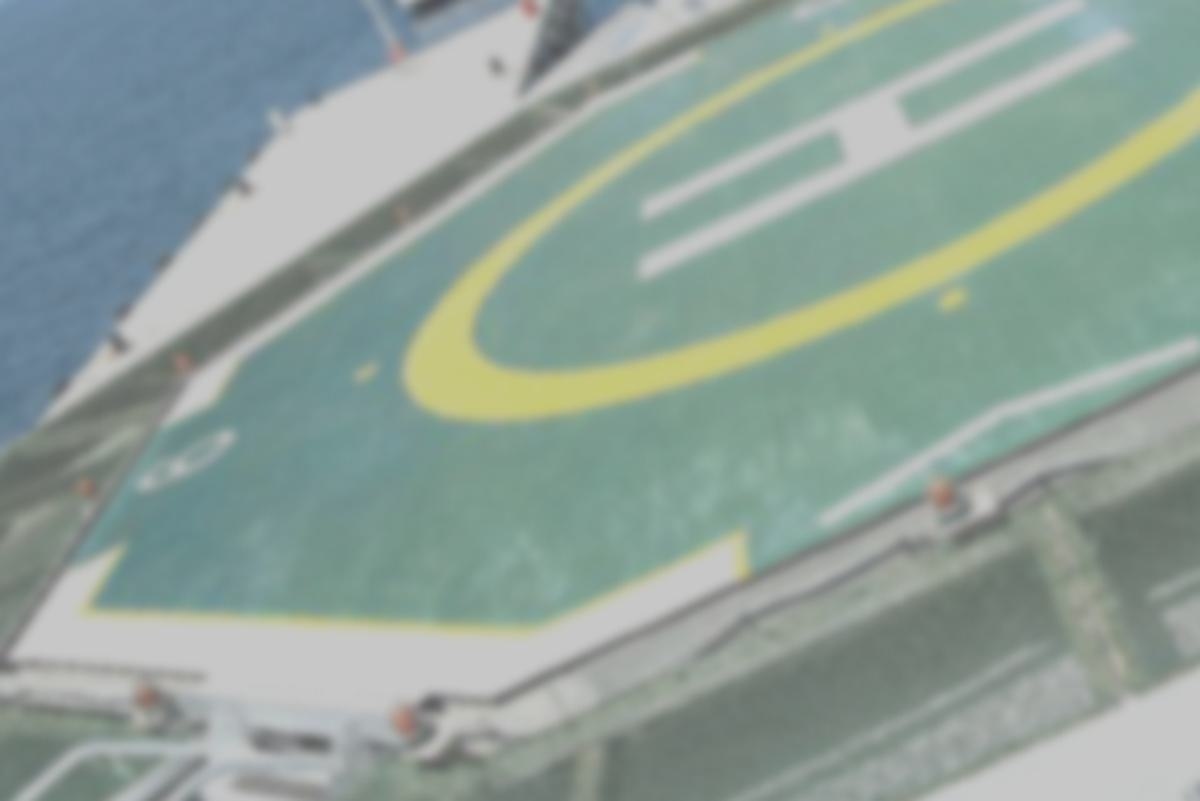Apron: (354, 6, 1200, 460)
